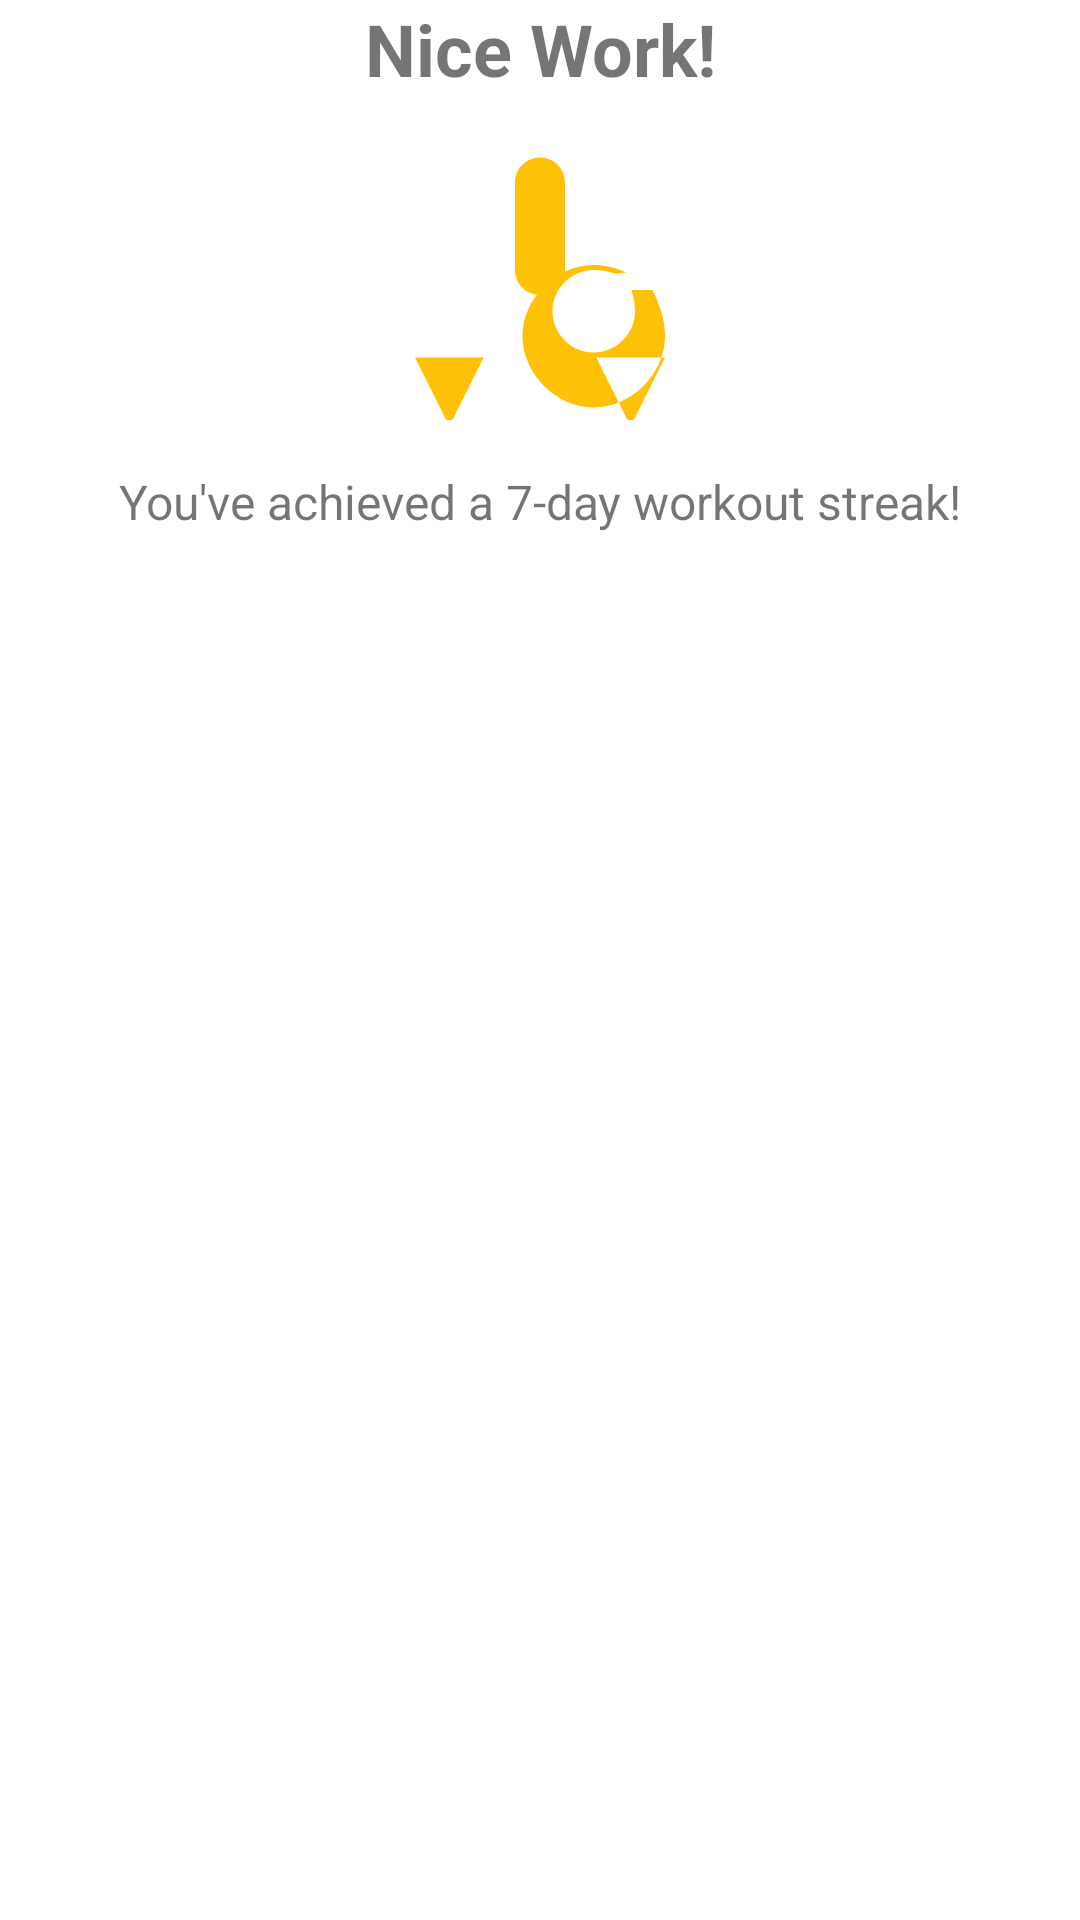

Point at icon controls on the screen. Image size 1080*1920, points as (x,y).
medal: (540,288)
